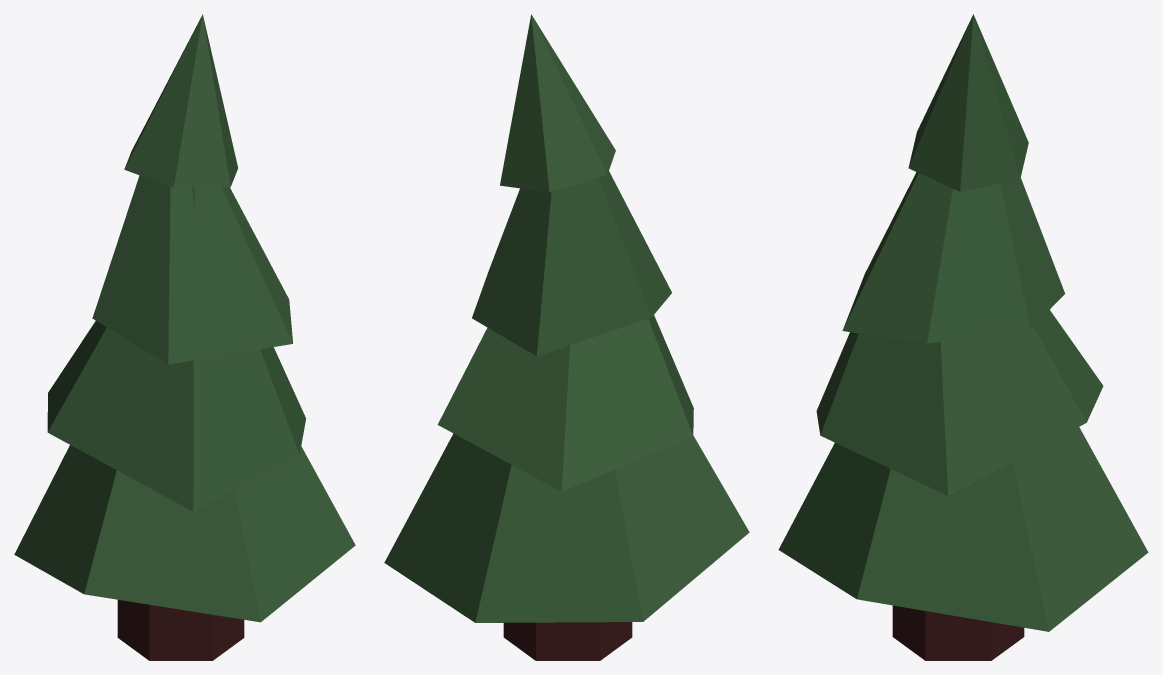
The picture shows the model from 3 angles, left to right: view 1: azimuth 30°, elevation 25°; view 2: azimuth 150°, elevation 25°; view 3: azimuth 270°, elevation 25°; orthographic projection. The views are drawn at different scales.
Parts seen in each view (by area): view 1: Cone, Cone.001, Cone.002, Cone.003, Cylinder; view 2: Cone, Cone.001, Cone.002, Cone.003, Cylinder; view 3: Cone, Cone.001, Cone.002, Cone.003, Cylinder.
Part boxes in pixels (left/top/right/bottom): Cone: left=14, top=445, right=355, bottom=622; Cone.001: left=47, top=187, right=305, bottom=511; Cone.002: left=92, top=175, right=293, bottom=364; Cone.003: left=124, top=14, right=237, bottom=187; Cylinder: left=117, top=599, right=244, bottom=660; Cone: left=384, top=433, right=749, bottom=622; Cone.001: left=437, top=315, right=693, bottom=491; Cone.002: left=472, top=171, right=671, bottom=356; Cone.003: left=500, top=14, right=615, bottom=192; Cylinder: left=503, top=622, right=632, bottom=660; Cone: left=778, top=427, right=1148, bottom=631; Cone.001: left=816, top=310, right=1103, bottom=495; Cone.002: left=842, top=172, right=1064, bottom=343; Cone.003: left=908, top=14, right=1028, bottom=191; Cylinder: left=892, top=605, right=1024, bottom=660.
Size of the model in its own units: 502 by 1067 by 561.
